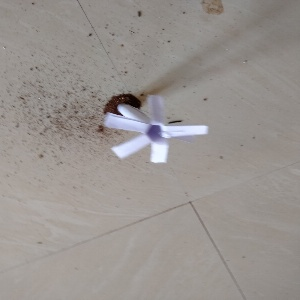weed: (99, 87, 201, 165)
